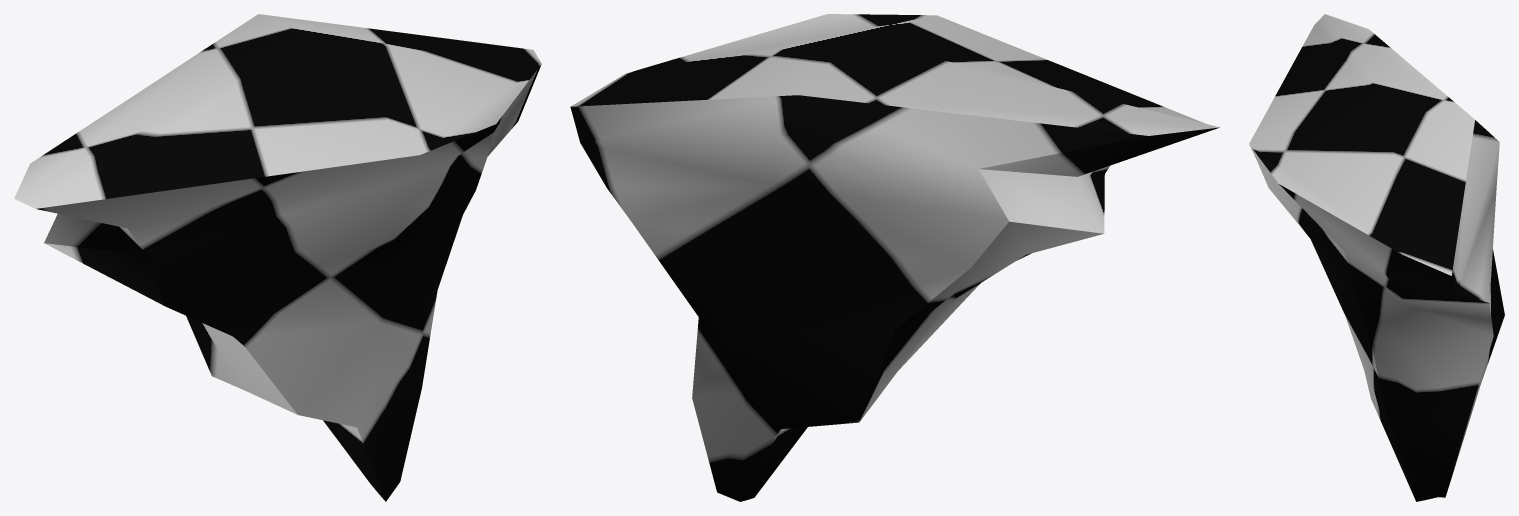
Rendered from iceBergAssetMedium.obj.
The picture shows the model from 3 angles, left to right: view 1: azimuth 30°, elevation 25°; view 2: azimuth 150°, elevation 25°; view 3: azimuth 270°, elevation 25°; orthographic projection. The views are drawn at different scales.
Visible parts, largest first — view 1: Ice_berg_2_lowpoly; view 2: Ice_berg_2_lowpoly; view 3: Ice_berg_2_lowpoly.
Part boxes in pixels (left/top/right/bottom): Ice_berg_2_lowpoly: left=14, top=14, right=541, bottom=501; Ice_berg_2_lowpoly: left=570, top=14, right=1219, bottom=501; Ice_berg_2_lowpoly: left=1249, top=14, right=1504, bottom=501.
Size of the model in its own units: 178 by 140 by 89.17.
Materials: 1 (1 with a texture image).
